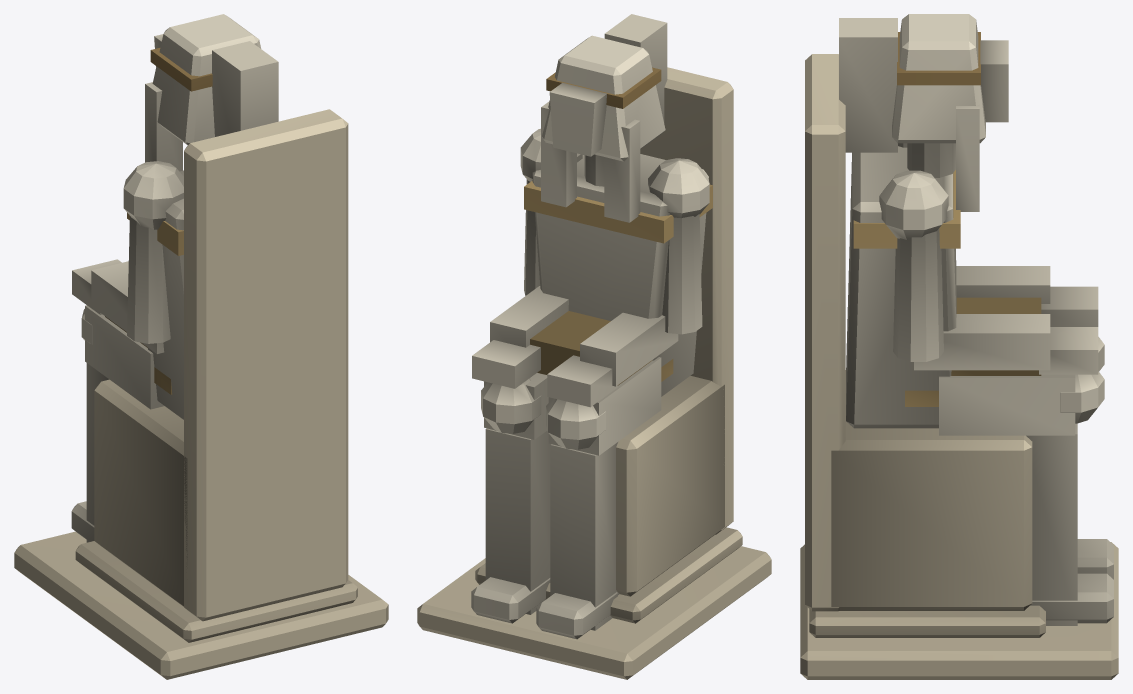
File: statue_seated.glb
The picture shows the model from 3 angles, left to right: view 1: azimuth 30°, elevation 25°; view 2: azimuth 150°, elevation 25°; view 3: azimuth 270°, elevation 25°; orthographic projection. The views are drawn at different scales.
Parts seen in each view (by area): view 1: statue_seated_stone_pale, statue_seated_stone_white, statue_seated_stone_groove, statue_seated_stone_warm; view 2: statue_seated_stone_white, statue_seated_stone_pale, statue_seated_stone_warm, statue_seated_stone_groove; view 3: statue_seated_stone_white, statue_seated_stone_pale, statue_seated_stone_warm, statue_seated_stone_groove.
Part boxes in pixels (left/top/right/bottom): statue_seated_stone_pale: left=14, top=109, right=388, bottom=679; statue_seated_stone_white: left=71, top=14, right=278, bottom=542; statue_seated_stone_groove: left=150, top=48, right=212, bottom=91; statue_seated_stone_warm: left=105, top=212, right=183, bottom=394; statue_seated_stone_white: left=471, top=14, right=709, bottom=639; statue_seated_stone_pale: left=417, top=67, right=771, bottom=679; statue_seated_stone_warm: left=524, top=181, right=712, bottom=385; statue_seated_stone_groove: left=546, top=67, right=661, bottom=108; statue_seated_stone_white: left=839, top=14, right=1113, bottom=625; statue_seated_stone_pale: left=800, top=54, right=1118, bottom=679; statue_seated_stone_warm: left=853, top=170, right=1041, bottom=406; statue_seated_stone_groove: left=897, top=32, right=980, bottom=85.
Size of the model in its own units: 0.6 by 1.45 by 0.7.
